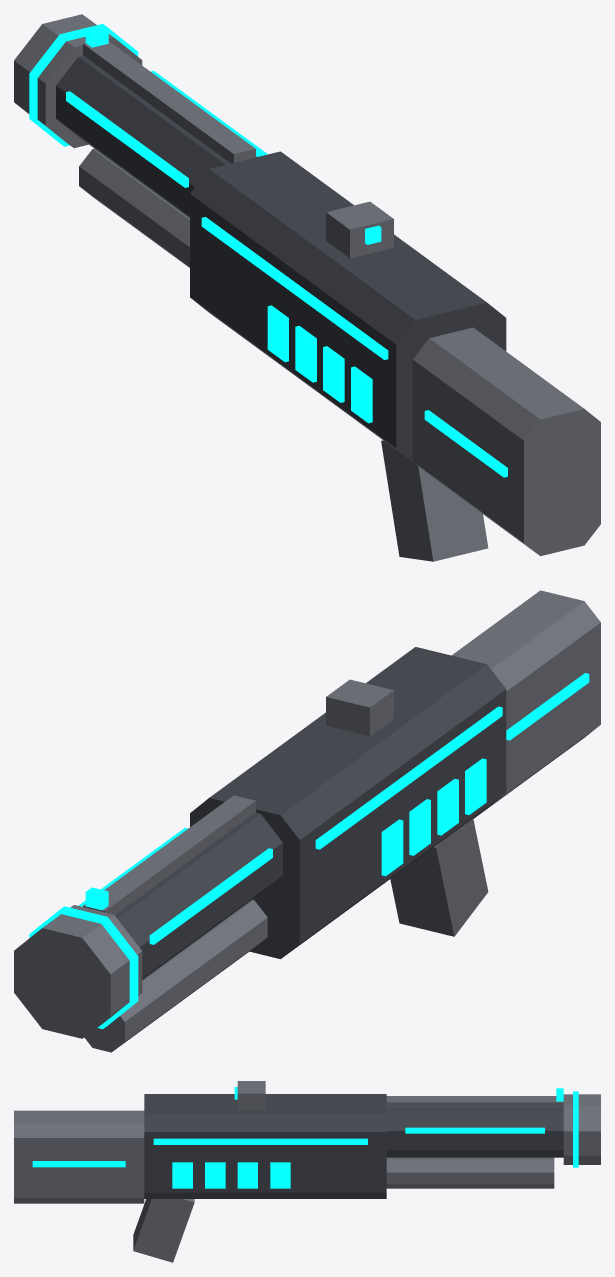
File: shotgun.glb
3 renders of one model, top to bottom at view 1: azimuth 30°, elevation 25°; view 2: azimuth 150°, elevation 25°; view 3: azimuth 270°, elevation 25°, orthographic. The views are drawn at different scales.
Parts seen in each view (by area): view 1: Shotgun; view 2: Shotgun; view 3: Shotgun.
Boxes of the visible parts, left/top/right/bottom form: Shotgun: left=14, top=14, right=600, bottom=561; Shotgun: left=14, top=590, right=600, bottom=1052; Shotgun: left=14, top=1081, right=600, bottom=1262.
Size of the model in its own units: 0.086 by 0.1984 by 0.63.
